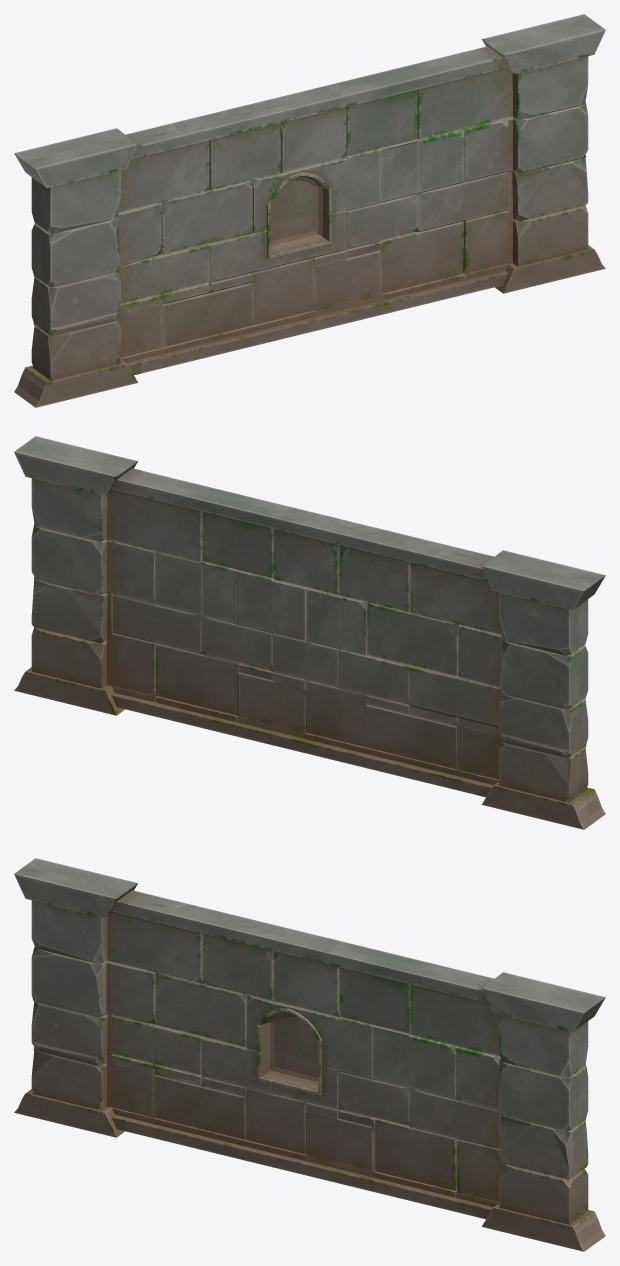
File: ParedDungeon.fbx
3 views of the same model, one above another, from view 1: azimuth 30°, elevation 25°; view 2: azimuth 150°, elevation 25°; view 3: azimuth 330°, elevation 25° (orthographic).
Parts seen in each view (by area): view 1: Ventana; view 2: Ventana; view 3: Ventana.
Boxes of the visible parts, x1,y1,x2,y2 form: Ventana: (14,14,605,407); Ventana: (14,436,605,829); Ventana: (14,858,605,1251).
Size of the model in its own units: 1000 by 400 by 65.85.
Materials: 1 (1 with a texture image).
